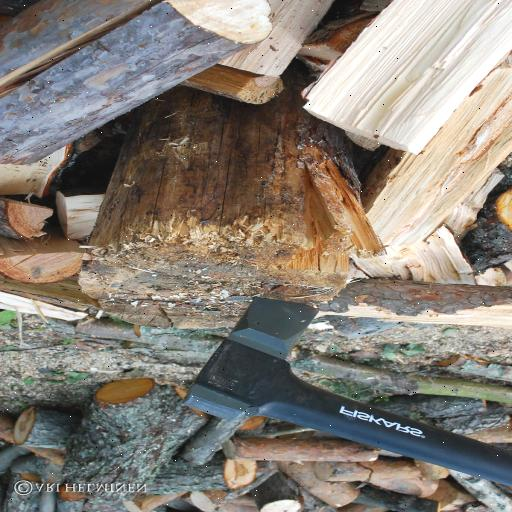Axe: (182, 296, 512, 487)
